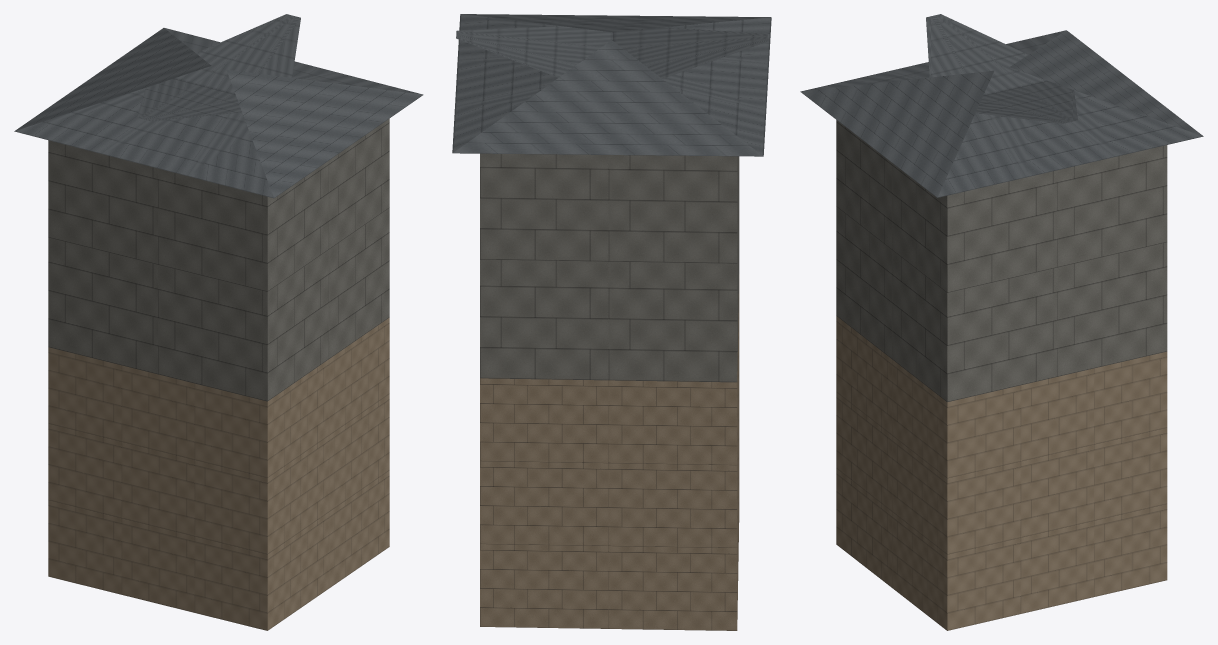
Rendered from bld_c22_31_386.gltf.
3 views of the same model, side by side, from view 1: azimuth 30°, elevation 25°; view 2: azimuth 150°, elevation 25°; view 3: azimuth 270°, elevation 25° (orthographic). The views are drawn at different scales.
Visible parts, largest first — view 1: bld_c22_31_386; view 2: bld_c22_31_386; view 3: bld_c22_31_386.
Part boxes in pixels (<box>): bld_c22_31_386: <box>14,14,423,630</box>; bld_c22_31_386: <box>452,14,771,630</box>; bld_c22_31_386: <box>800,14,1203,630</box>.
Size of the model in its own units: 7.96 by 10.9 by 8.1.
3 materials, 3 textured.
